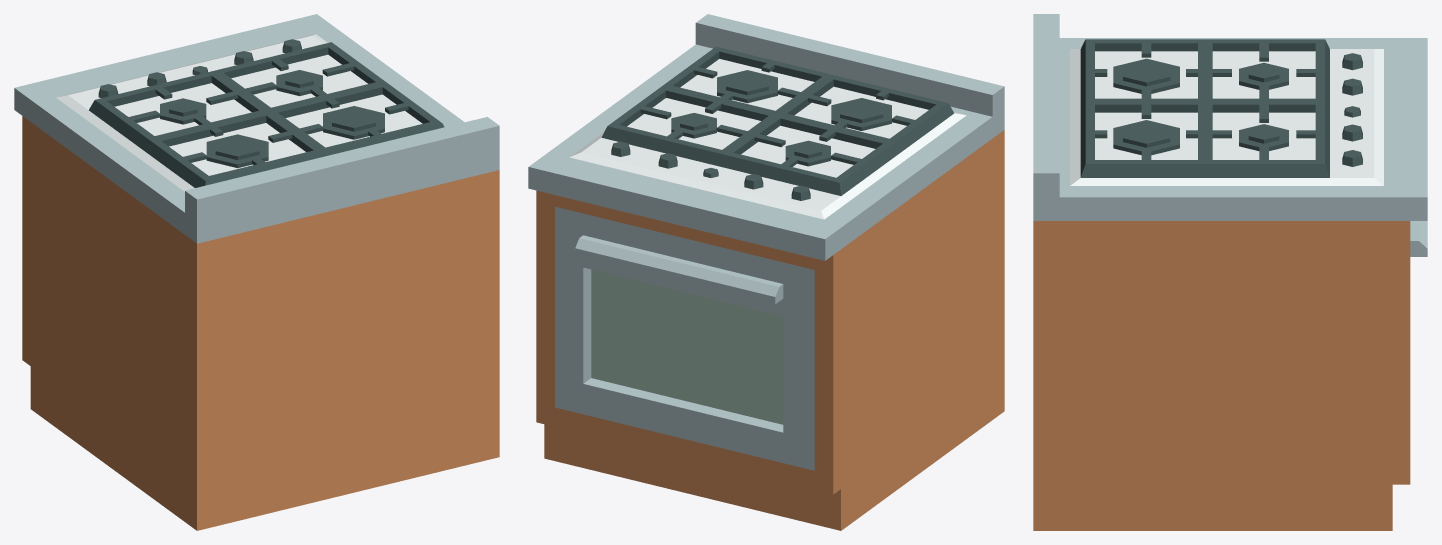
File: Kitchen Stove.glb
3 views of the same model, side by side, from view 1: azimuth 30°, elevation 25°; view 2: azimuth 150°, elevation 25°; view 3: azimuth 270°, elevation 25° (orthographic). The views are drawn at different scales.
Parts seen in each view (by area): view 1: kitchenStove; view 2: kitchenStove, door; view 3: kitchenStove, door.
Part boxes in pixels (box(x1,y1,x2,y2)): kitchenStove: box(14, 14, 499, 530); kitchenStove: box(528, 14, 1004, 530); door: box(555, 206, 814, 470); kitchenStove: box(1033, 14, 1427, 530); door: box(1410, 221, 1427, 256).
Size of the model in its own units: 0.43 by 0.45 by 0.45.
